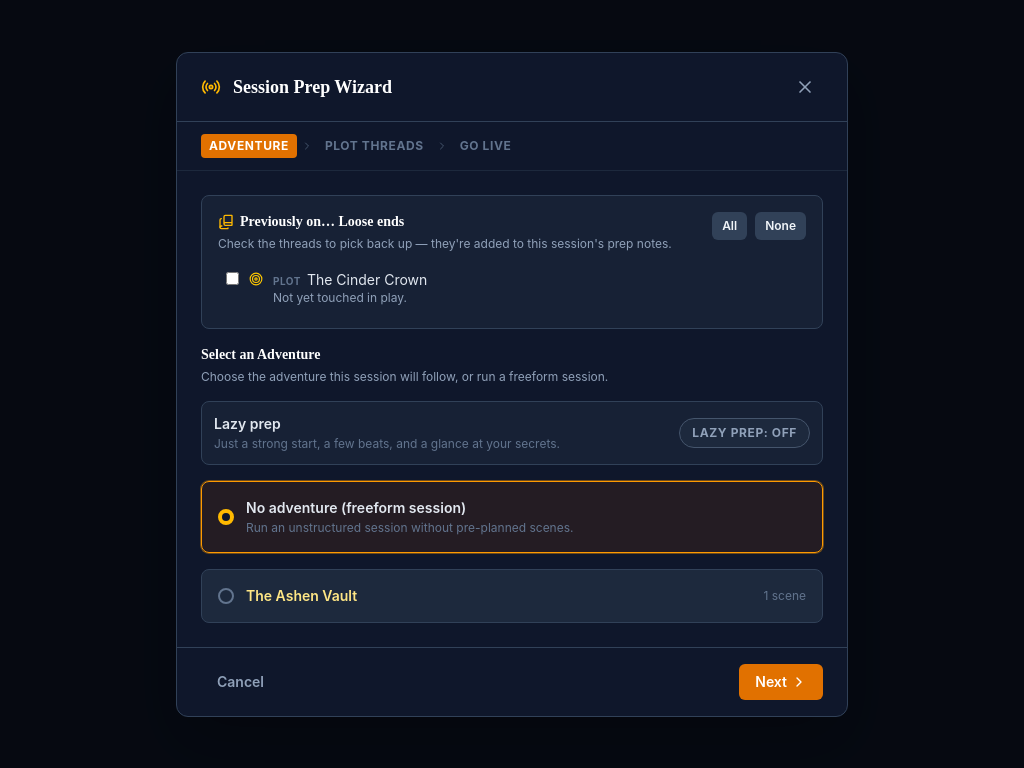
Test case: the checklist is collapsed by default › shows on the Review step in the standard flow too, not just the lazy path
This screenshot has width=1024, height=768.
Click the button "The Ashen Vault 1 scene" at (302, 595), box [201,568,823,622]
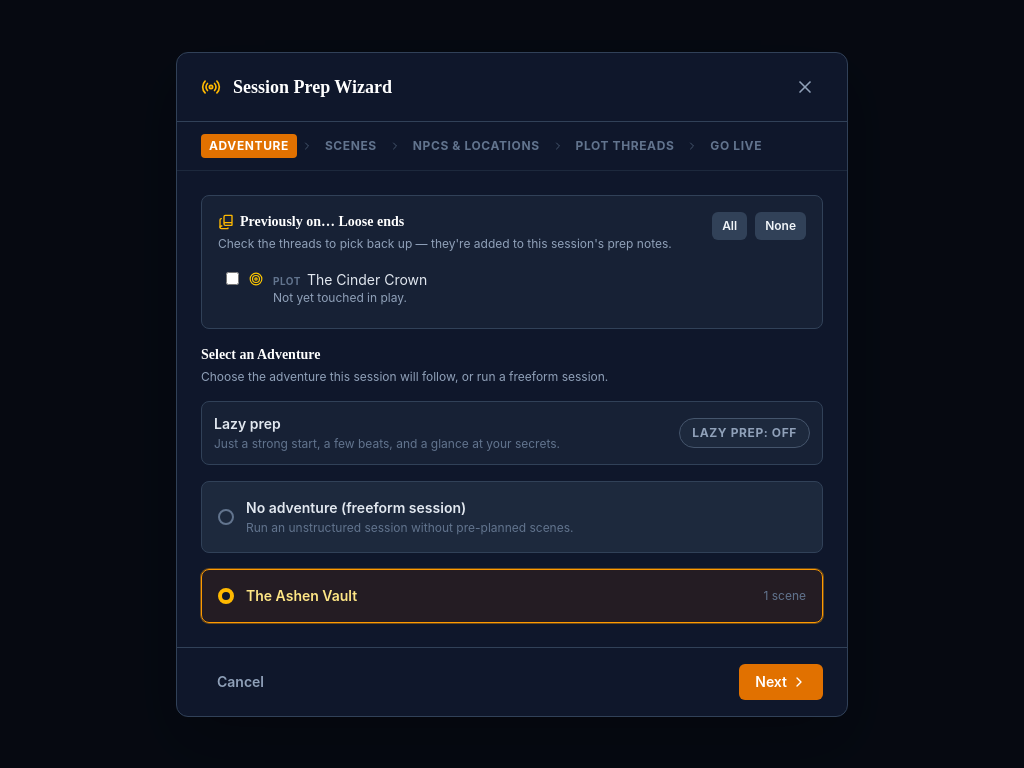
Click the button "Go Live" at (736, 146), box [702,134,770,158]
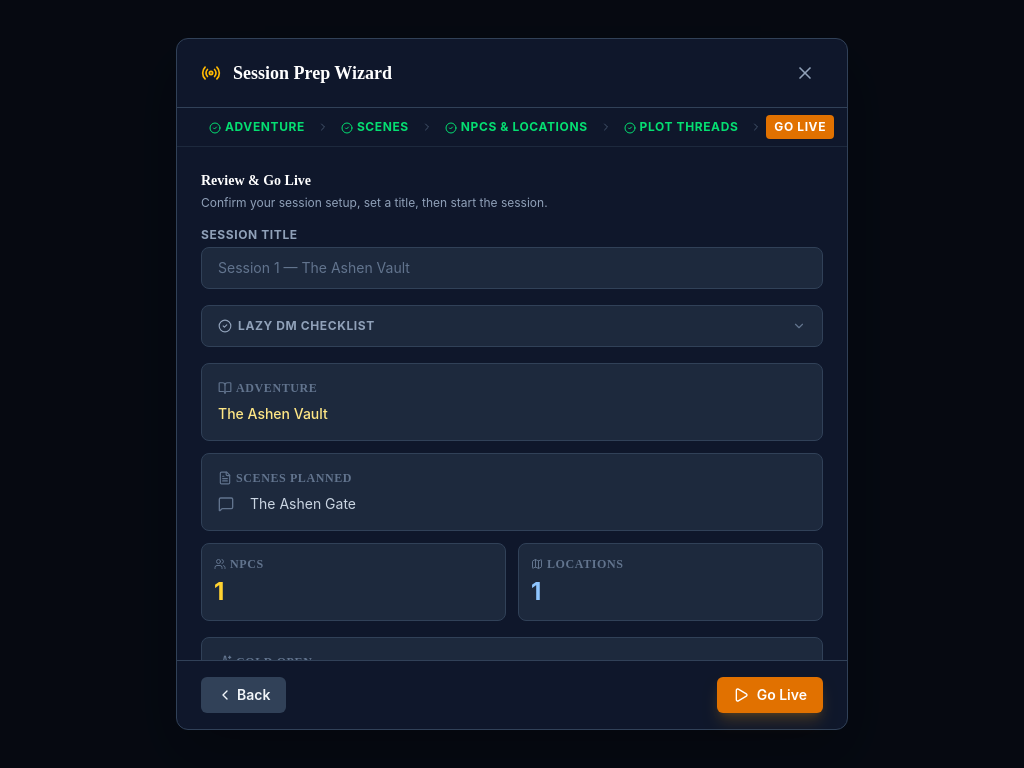
Click the button "Lazy DM checklist" at (306, 326), box [202,306,822,346]
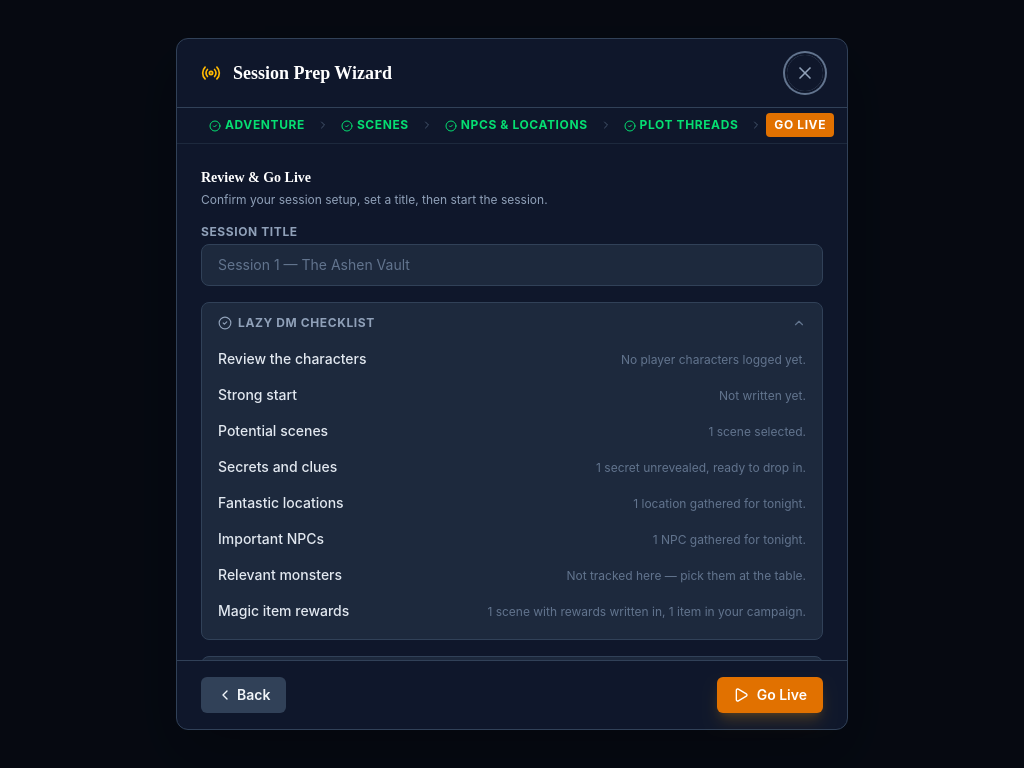
Result: the text "Review the characters" is shown at [218,349,366,369]
